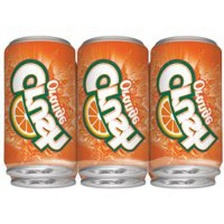can: (2, 31, 77, 179), (147, 34, 223, 179), (76, 34, 150, 180), (78, 173, 148, 192), (150, 175, 217, 192), (7, 175, 77, 190)
